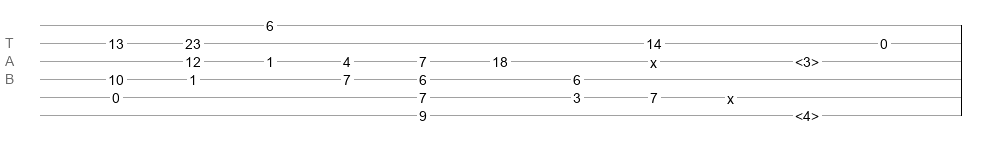0: (112, 90, 120, 100), (880, 36, 888, 46)
1: (189, 72, 197, 82), (266, 54, 274, 64)
10: (108, 72, 124, 82)
12: (185, 54, 201, 64)
13: (108, 36, 124, 46)
14: (646, 36, 662, 46)
18: (492, 54, 508, 64)
23: (185, 36, 201, 46)
3: (573, 90, 581, 100)
4: (343, 54, 351, 64)
6: (266, 18, 274, 28), (419, 72, 427, 82), (573, 72, 581, 82)
7: (343, 72, 351, 82), (419, 54, 427, 64), (419, 90, 427, 100), (650, 90, 658, 100)
9: (419, 108, 427, 118)
harmonic: (795, 108, 819, 118), (795, 54, 819, 64)
x: (650, 55, 657, 63), (727, 91, 734, 99)
